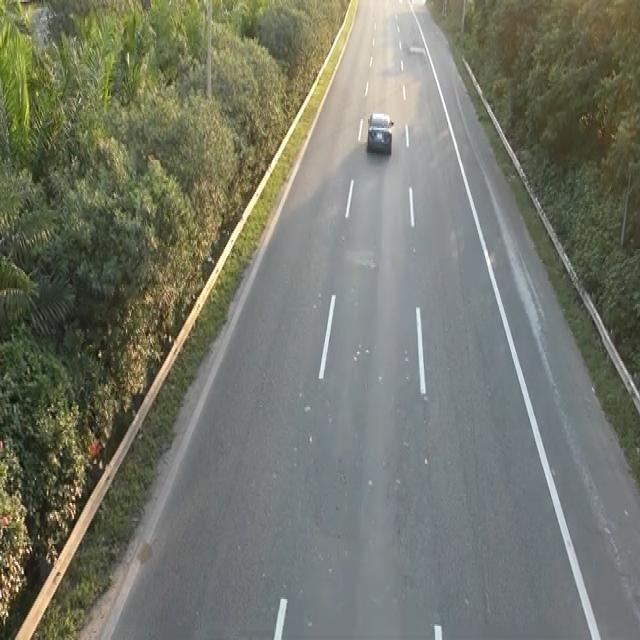bus: (365, 109, 394, 154)
